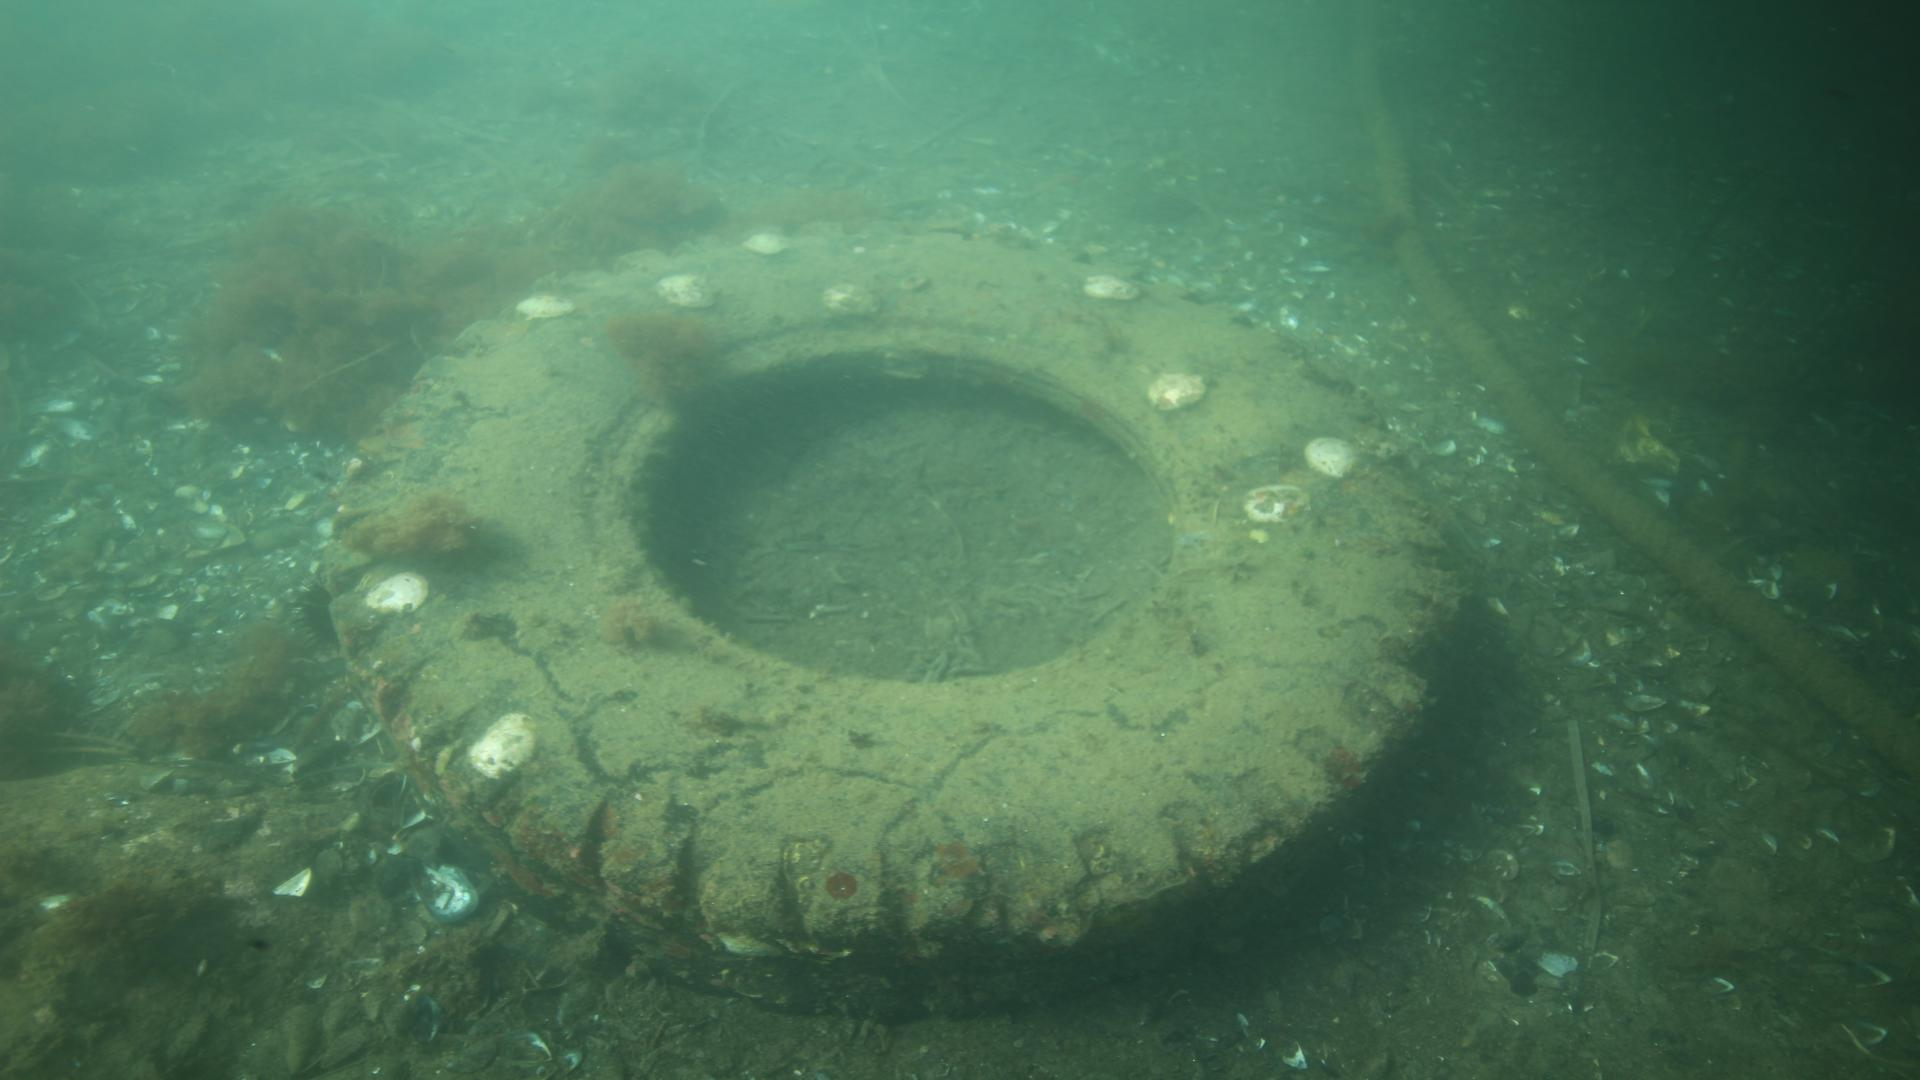rope: (1345, 0, 1920, 790)
tire: (318, 220, 1460, 1015)
